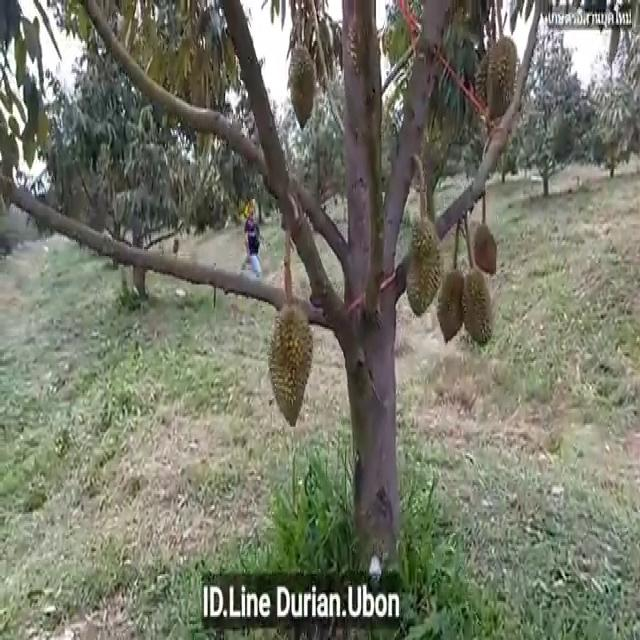durian: (265, 299, 315, 431), (404, 214, 444, 316), (486, 28, 520, 128), (460, 263, 495, 350), (287, 40, 318, 134), (437, 265, 468, 345), (471, 222, 499, 282)
